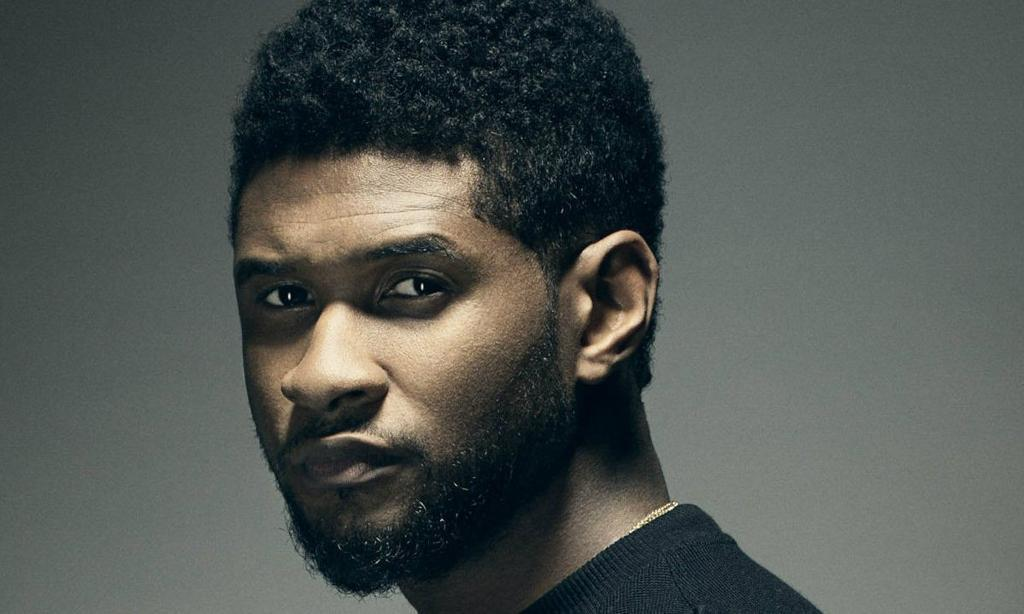face: (235, 151, 579, 585)
